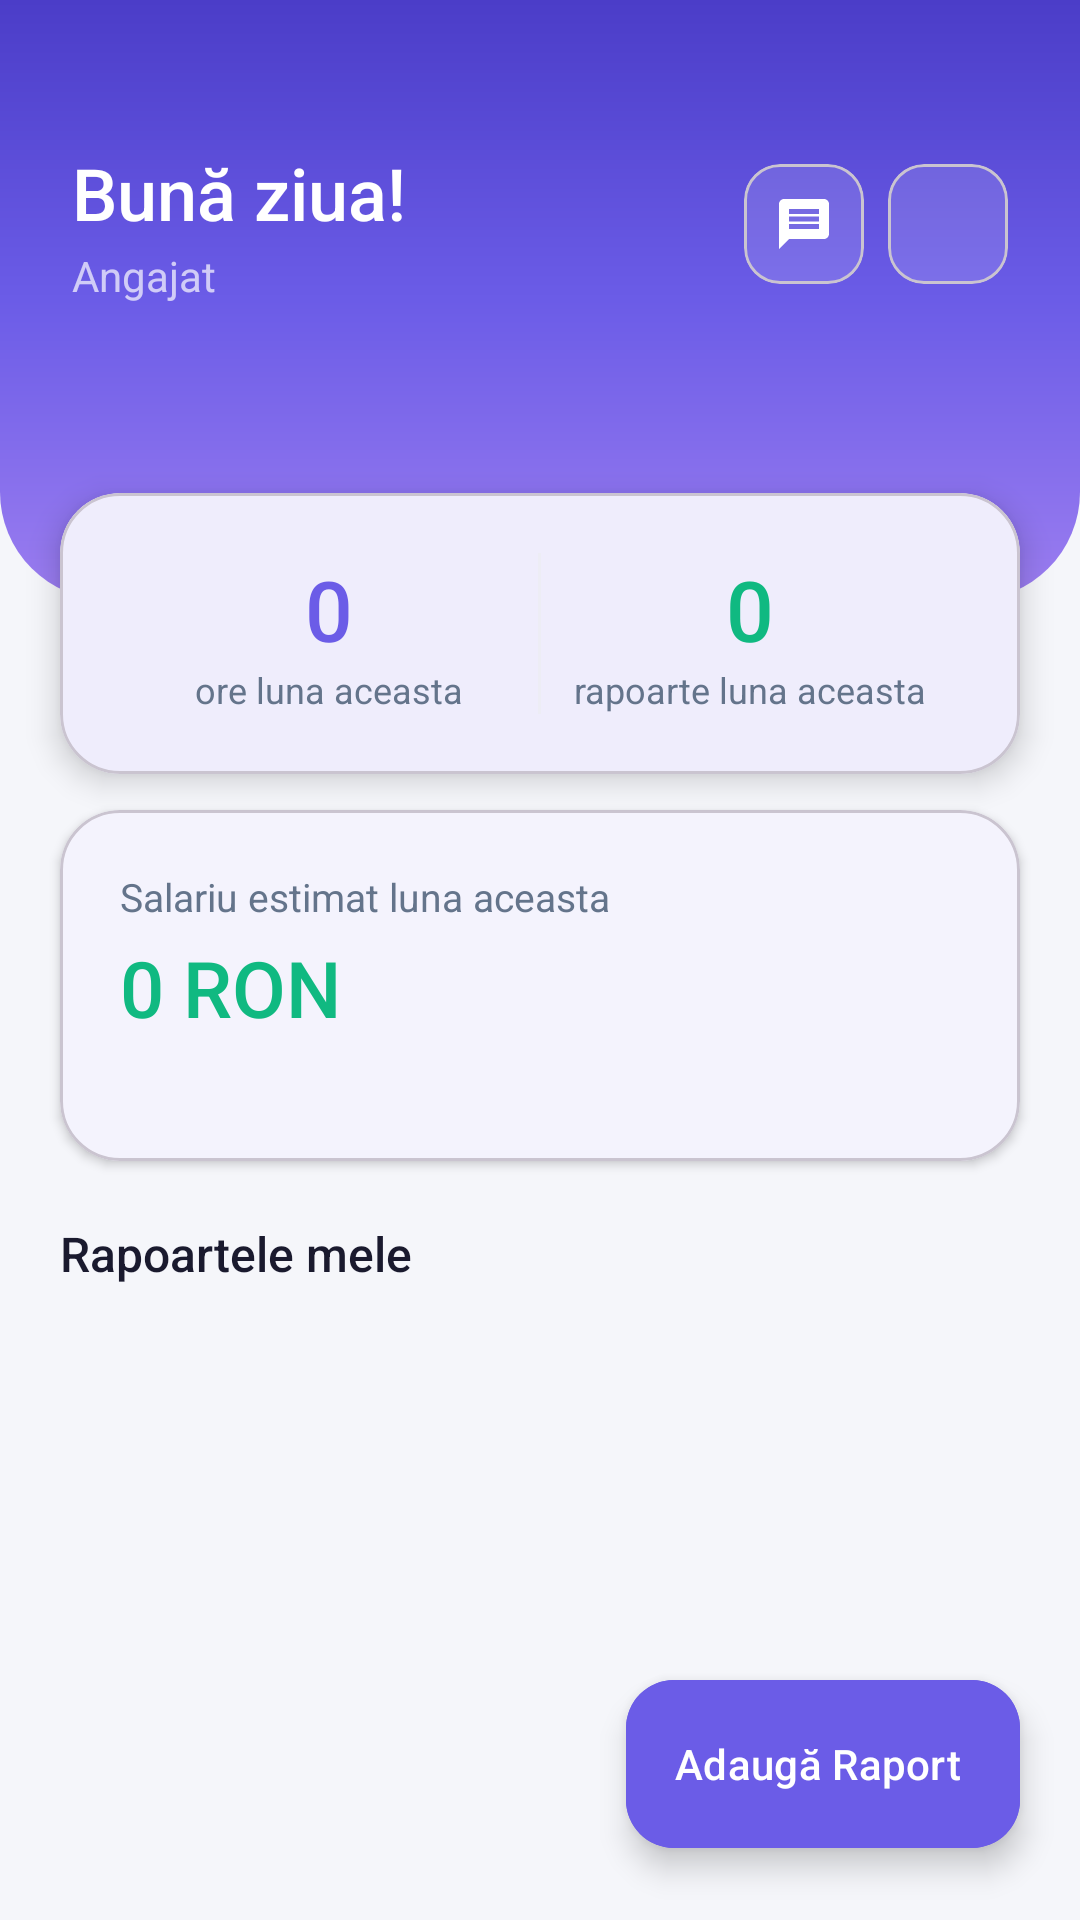

Named icons in this screenshot (1080w x 1920h) and their centers, [x,y]:
Chat Admin: [804,224]
